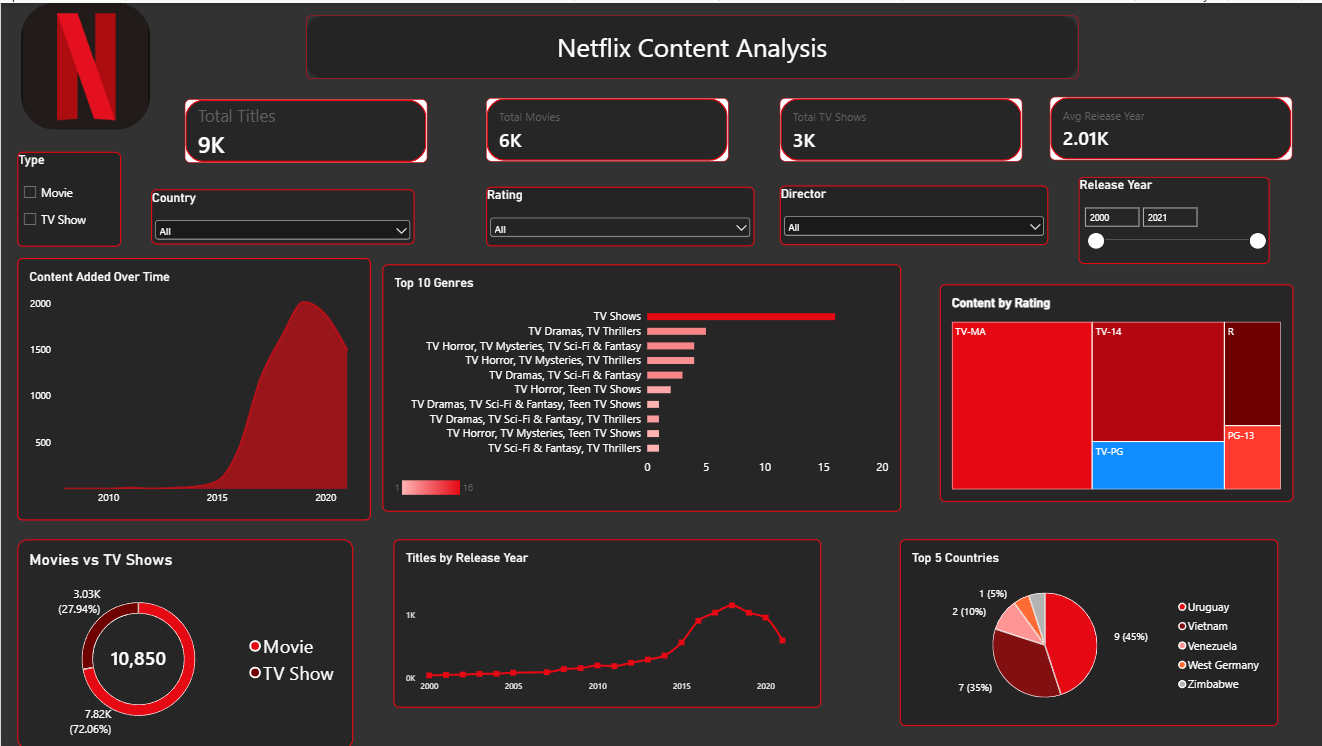

The page's visual inventory and layout, read from the dashboard file:
{"tool":"powerbi","page":{"name":"Page 1","canvas":[1920,1080],"ordinal":0},"visuals":[{"type":"image","box":[29,0,187.3,183.2],"z":0},{"type":"cardVisual","fields":{"Data":["netflix.Total Titles"]},"box":[266,139.3,351.1,92.3],"z":1000},{"type":"cardVisual","fields":{"Data":["netflix.Avg Release Year"]},"box":[1518.3,135.7,351.1,92.3],"z":2000},{"type":"cardVisual","fields":{"Data":["netflix.Total TV Shows"]},"box":[1127.4,137.5,351.1,92.3],"z":3000},{"type":"cardVisual","fields":{"Data":["netflix.Total Movies"]},"box":[702.1,137.5,351.1,92.3],"z":4000},{"type":"donutChart","title":"Movies vs TV Shows","fields":{"Y":["CountNonNull(netflix.show_id)"],"Category":["netflix.type"]},"box":[22.6,776,486.8,304],"z":5000},{"type":"lineChart","title":"Titles by Release Year","fields":{"Category":["netflix.release_year"],"Y":["netflix.Total Titles"]},"box":[568.2,776.3,618.9,244.3],"z":6000},{"type":"clusteredBarChart","title":"Top 10 Genres","fields":{"Category":["netflix.listed_in"],"Y":["netflix.Total Titles"]},"box":[551.6,378.7,751,358.3],"z":7000},{"type":"treemap","title":"Content by Rating","fields":{"Group":["netflix.rating"],"Values":["netflix.Total Titles"]},"box":[1358.5,407.5,512.1,314.9],"z":8000},{"type":"areaChart","title":"Content Added Over Time","fields":{"Category":["netflix.date_added.Variation.Date Hierarchy.Year"],"Y":["netflix.Total Titles"]},"box":[22.6,368.4,512.1,380],"z":8001},{"type":"shape","box":[441.6,18.1,1118.4,92.3],"z":8002},{"type":"slicer","title":"Type","fields":{"Values":["netflix.type"]},"box":[23.5,215.3,150.2,137.5],"z":8003},{"type":"slicer","title":"Rating","fields":{"Values":["netflix.rating"]},"box":[701.9,265.5,389,86.4],"z":8004},{"type":"slicer","title":"Release Year","fields":{"Values":["netflix.release_year"]},"box":[1560.2,251.1,276.9,126.7],"z":8005},{"type":"slicer","title":"Country","fields":{"Values":["netflix.country"]},"box":[217.2,269.6,381.8,79.6],"z":8006},{"type":"slicer","title":"Director","fields":{"Values":["netflix.director"]},"box":[1128,263.5,389,86.4],"z":8007},{"type":"pieChart","title":"Top 5 Countries","fields":{"Category":["netflix.country"],"Y":["netflix.Total Titles"]},"box":[1302,776,548,270],"z":8008}]}

Visuals, with their boxes in screenshot pixels (x1, y1, x2, y2), scaled from the page's 1920x1080 canvas onto the 1322x746 screenshot:
image: crop(20, 0, 149, 127)
cardVisual - netflix.Total Titles: crop(183, 96, 425, 160)
cardVisual - netflix.Avg Release Year: crop(1045, 94, 1287, 157)
cardVisual - netflix.Total TV Shows: crop(776, 95, 1018, 159)
cardVisual - netflix.Total Movies: crop(483, 95, 725, 159)
"Movies vs TV Shows" donutChart: crop(16, 536, 351, 745)
"Titles by Release Year" lineChart: crop(391, 536, 817, 705)
"Top 10 Genres" clusteredBarChart: crop(380, 262, 897, 509)
"Content by Rating" treemap: crop(935, 281, 1288, 499)
"Content Added Over Time" areaChart: crop(16, 254, 368, 517)
shape: crop(304, 13, 1074, 76)
"Type" slicer: crop(16, 149, 120, 244)
"Rating" slicer: crop(483, 183, 751, 243)
"Release Year" slicer: crop(1074, 173, 1265, 261)
"Country" slicer: crop(150, 186, 412, 241)
"Director" slicer: crop(777, 182, 1045, 242)
"Top 5 Countries" pieChart: crop(896, 536, 1274, 723)
